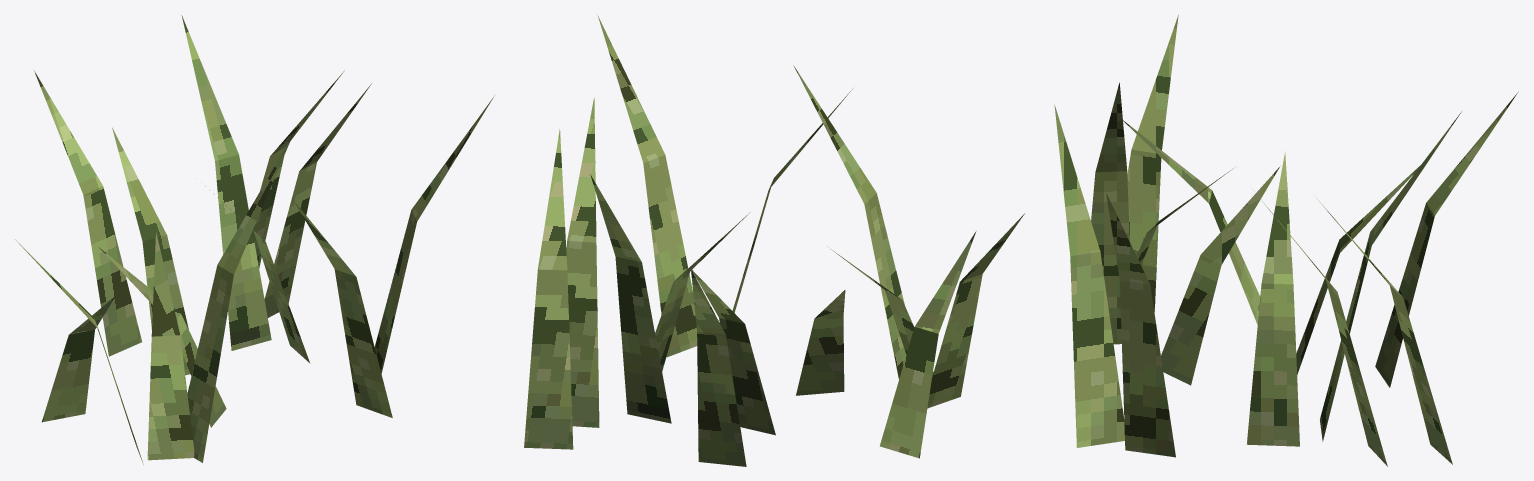
The model's file is meadow-tuft.glb.
The picture shows the model from 3 angles, left to right: view 1: azimuth 30°, elevation 25°; view 2: azimuth 150°, elevation 25°; view 3: azimuth 270°, elevation 25°; orthographic projection. The views are drawn at different scales.
Parts seen in each view (by area): view 1: meadow-tuft_Leaves; view 2: meadow-tuft_Leaves; view 3: meadow-tuft_Leaves.
Boxes of the visible parts, box(x1,y1,x2,y2) form: meadow-tuft_Leaves: box(15, 15, 494, 464); meadow-tuft_Leaves: box(524, 15, 1024, 466); meadow-tuft_Leaves: box(1054, 15, 1518, 466).
Bounding box in the file's own units: 0.8094 × 0.5001 × 0.6526.
Materials: 1 (1 with a texture image).
